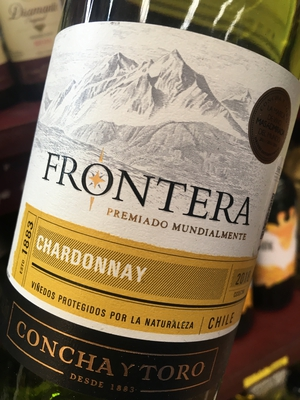frontera chardonnay: (14, 11, 300, 396)
